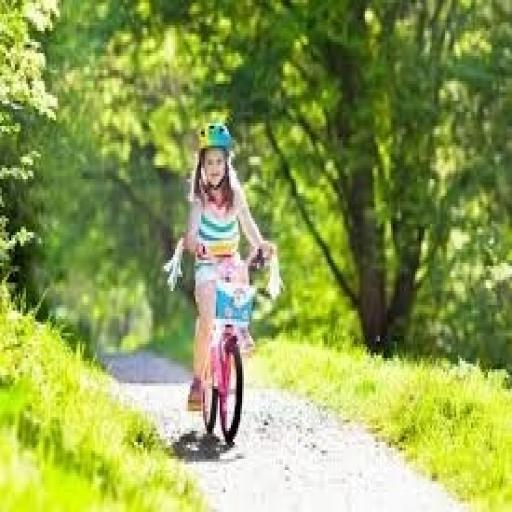cycling: (162, 118, 281, 414)
